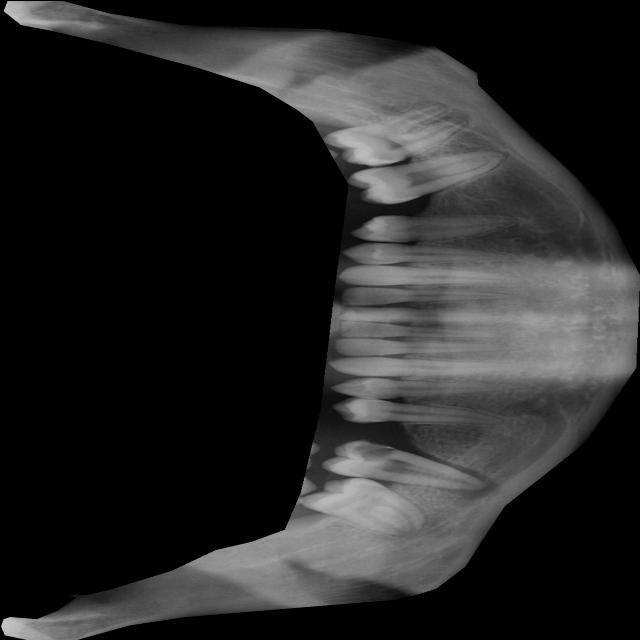mandibula: (1, 0, 640, 640)
